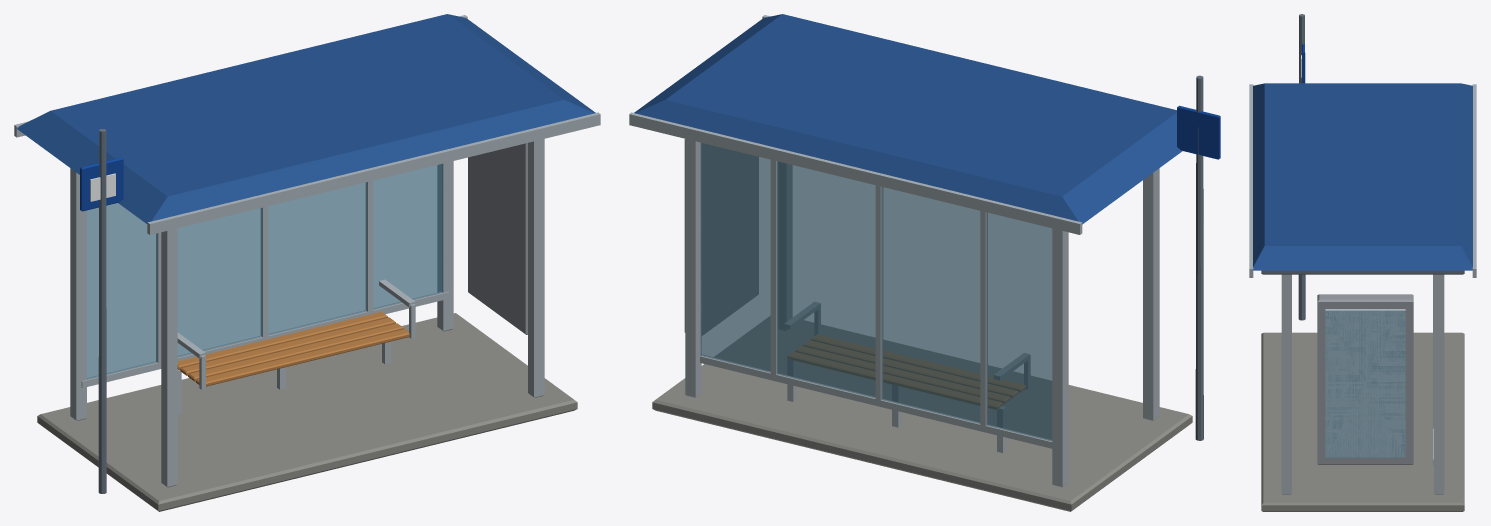
Rendered from PROP_05.obj.
The picture shows the model from 3 angles, left to right: view 1: azimuth 30°, elevation 25°; view 2: azimuth 150°, elevation 25°; view 3: azimuth 270°, elevation 25°; orthographic projection. The views are drawn at different scales.
Parts seen in each view (by area): view 1: PROP_05__canopy, PROP_05__plinth, PROP_05__back_panel, PROP_05__columns, PROP_05__ad_frame, PROP_05__bench, PROP_05__back_frame, PROP_05__sign_pole, PROP_05__sign; view 2: PROP_05__back_panel, PROP_05__canopy, PROP_05__plinth, PROP_05__columns, PROP_05__ad_frame, PROP_05__back_frame, PROP_05__bench, PROP_05__sign_pole, PROP_05__sign; view 3: PROP_05__canopy, PROP_05__plinth, PROP_05__ad_panel, PROP_05__ad_frame, PROP_05__columns, PROP_05__sign_pole.
Boxes of the visible parts, x1=… form: PROP_05__canopy: x1=14, y1=14, x2=600, y2=234; PROP_05__plinth: x1=37, y1=313, x2=577, y2=511; PROP_05__back_panel: x1=87, y1=163, x2=443, y2=379; PROP_05__columns: x1=70, y1=139, x2=544, y2=487; PROP_05__ad_frame: x1=468, y1=143, x2=527, y2=334; PROP_05__bench: x1=177, y1=279, x2=415, y2=414; PROP_05__back_frame: x1=81, y1=180, x2=449, y2=387; PROP_05__sign_pole: x1=98, y1=129, x2=106, y2=493; PROP_05__sign: x1=80, y1=157, x2=123, y2=211; PROP_05__back_panel: x1=700, y1=142, x2=1052, y2=441; PROP_05__canopy: x1=629, y1=14, x2=1182, y2=234; PROP_05__plinth: x1=652, y1=316, x2=1192, y2=511; PROP_05__columns: x1=685, y1=139, x2=1159, y2=487; PROP_05__ad_frame: x1=684, y1=139, x2=758, y2=335; PROP_05__back_frame: x1=700, y1=160, x2=1052, y2=448; PROP_05__bench: x1=784, y1=302, x2=1030, y2=452; PROP_05__sign_pole: x1=1195, y1=75, x2=1203, y2=440; PROP_05__sign: x1=1177, y1=105, x2=1220, y2=159; PROP_05__canopy: x1=1249, y1=83, x2=1476, y2=277; PROP_05__plinth: x1=1261, y1=332, x2=1464, y2=511; PROP_05__ad_panel: x1=1325, y1=309, x2=1405, y2=457; PROP_05__ad_frame: x1=1317, y1=294, x2=1413, y2=464; PROP_05__columns: x1=1281, y1=274, x2=1444, y2=494; PROP_05__sign_pole: x1=1298, y1=14, x2=1305, y2=320.
Size of the model in its own units: 4.65 by 3.4 by 2.24.
